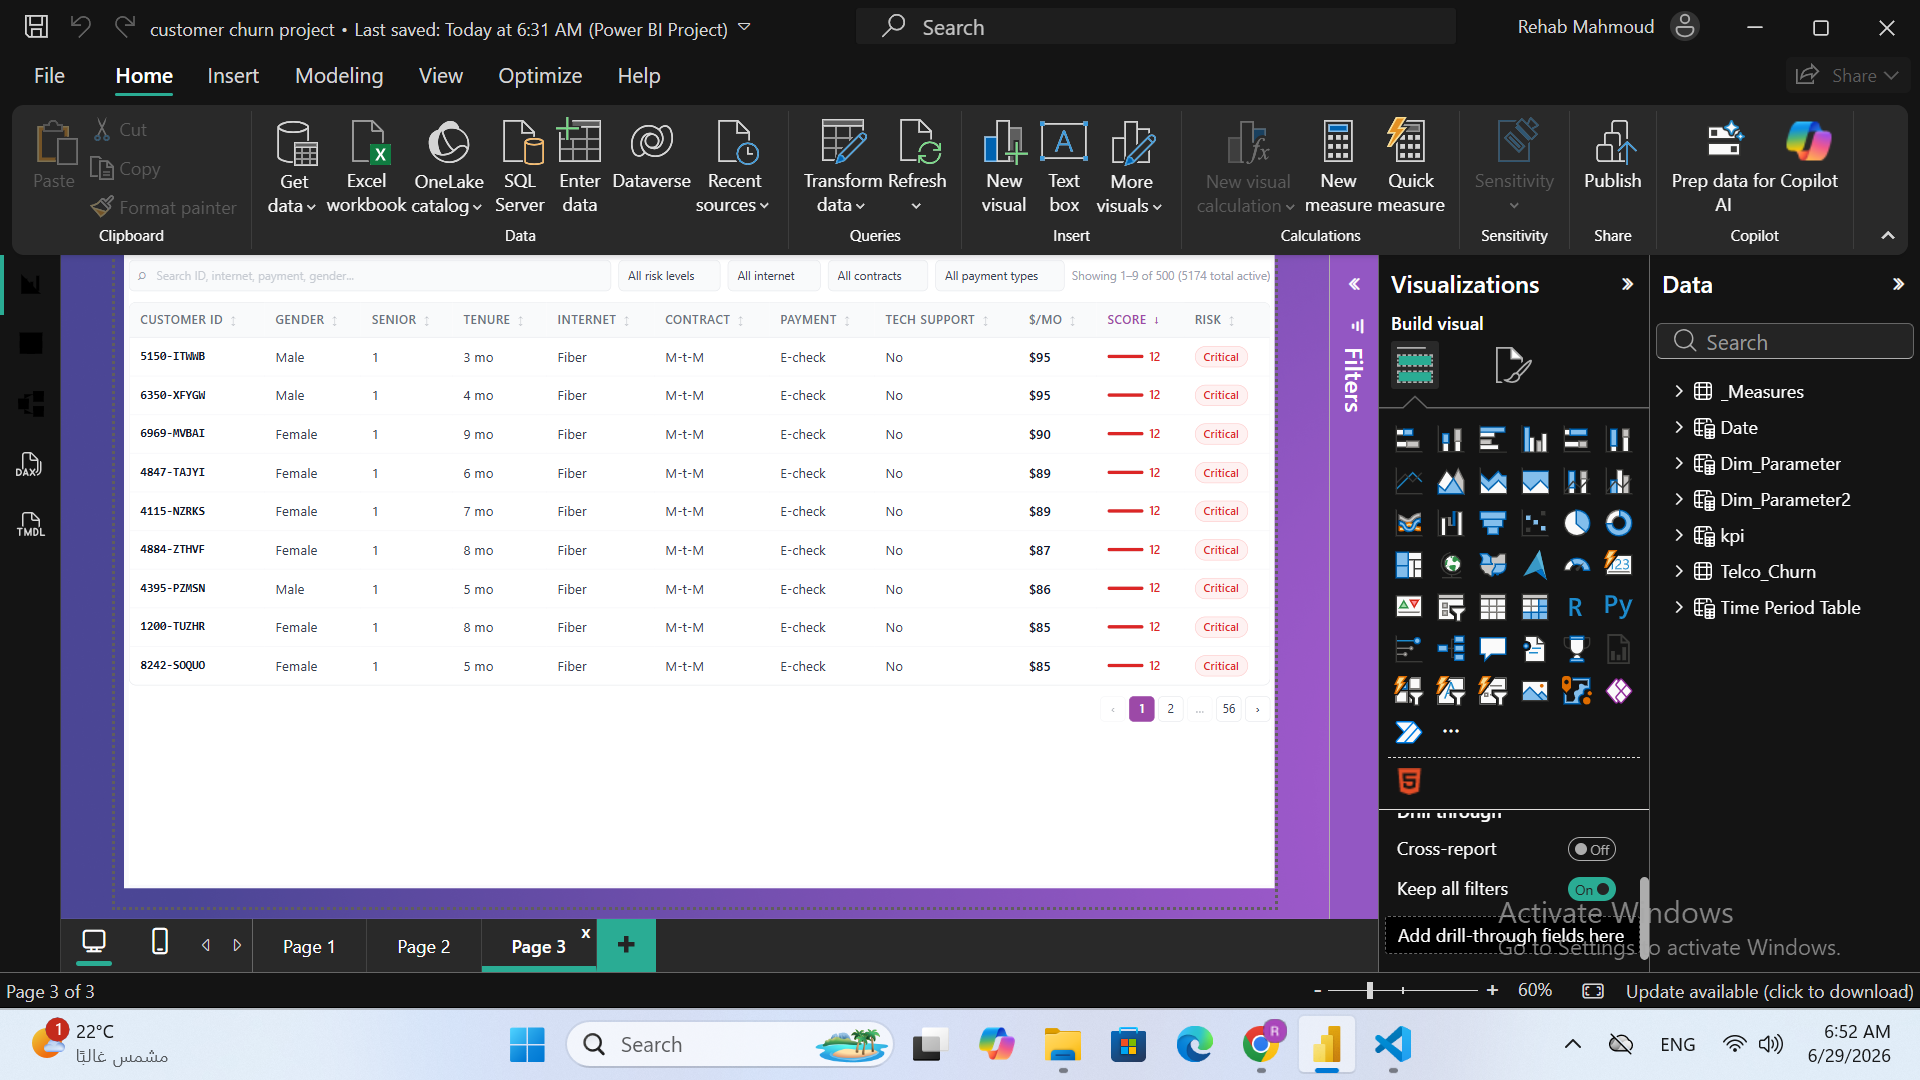

The dashboard page shown, as its layout file describes it:
{"tool":"powerbi","page":{"name":"Page 3","canvas":[1280,720],"ordinal":2},"visuals":[{"type":"htmlContent443BE3AD55E043BF878BED274D3A6855","fields":{"content":["_Measures.Customer Table HTML"]},"box":[9.9,0,1270.5,699],"z":0}]}

Visuals, with their boxes on the page's 1280x720 design canvas (x1, y1, x2, y2). These are canvas units, not pixel positions in the 1920x1080 screenshot, which may show the page scaled, cropped or inside an application window:
htmlContent443BE3AD55E043BF878BED274D3A6855 - _Measures.Customer Table HTML: rect(10, 0, 1280, 699)
